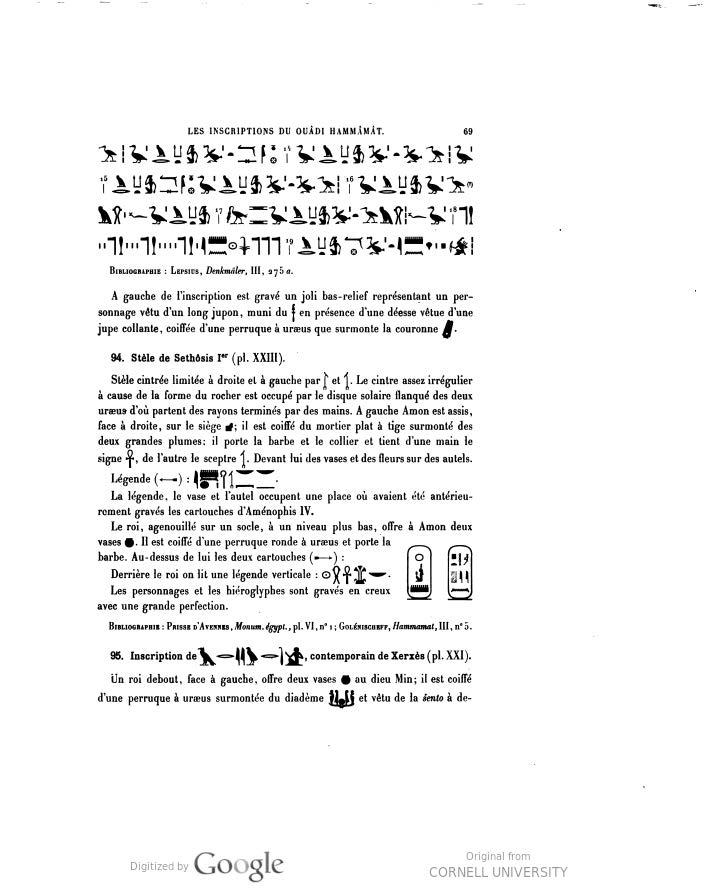circle: (438, 539, 484, 610), (401, 538, 439, 611)
